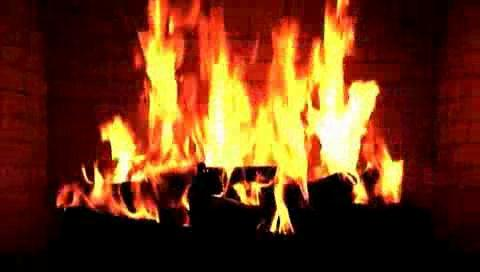fire: (97, 7, 397, 226)
